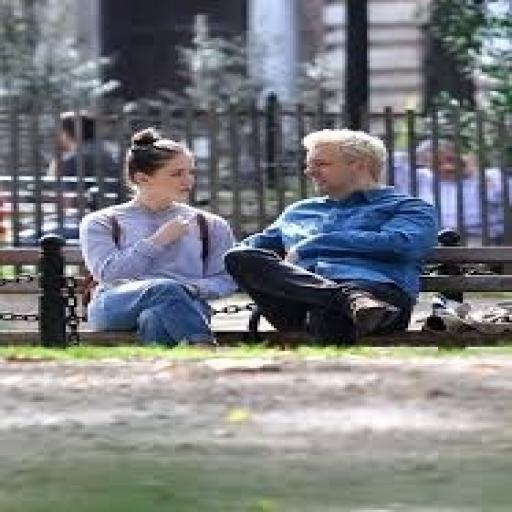sitting: (222, 125, 441, 345), (77, 125, 241, 349)
